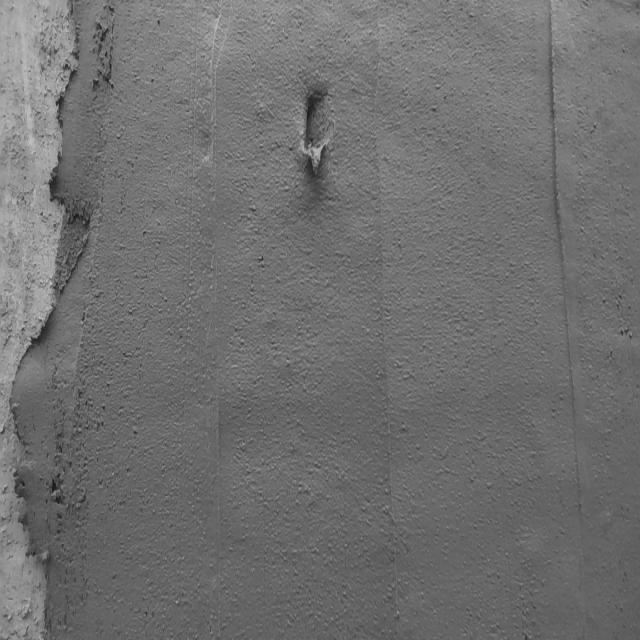trowels marks: (544, 3, 580, 458)
